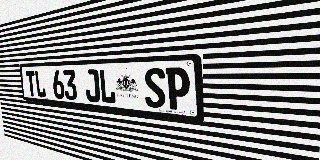3: (63, 70, 77, 101)
6: (52, 70, 65, 99)
J: (84, 69, 100, 103)
L: (99, 69, 116, 104), (34, 70, 46, 98)
P: (165, 67, 190, 111)
S: (144, 68, 166, 109)
T: (25, 71, 37, 97)
